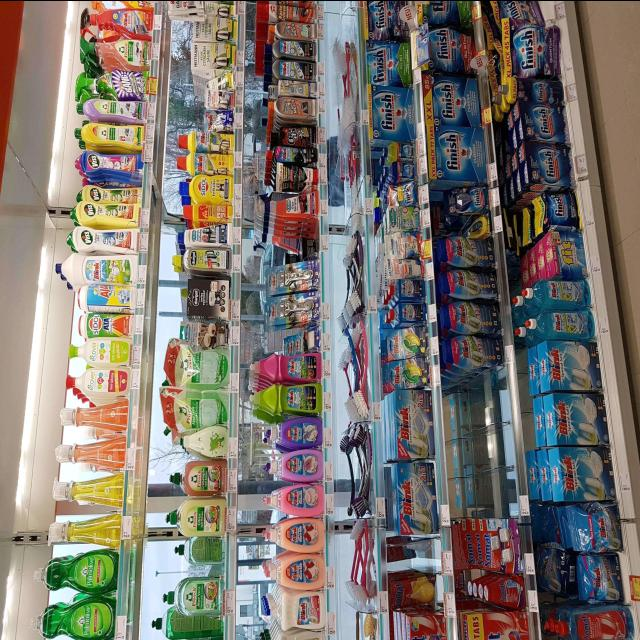empty_space: (458, 379, 504, 505)
